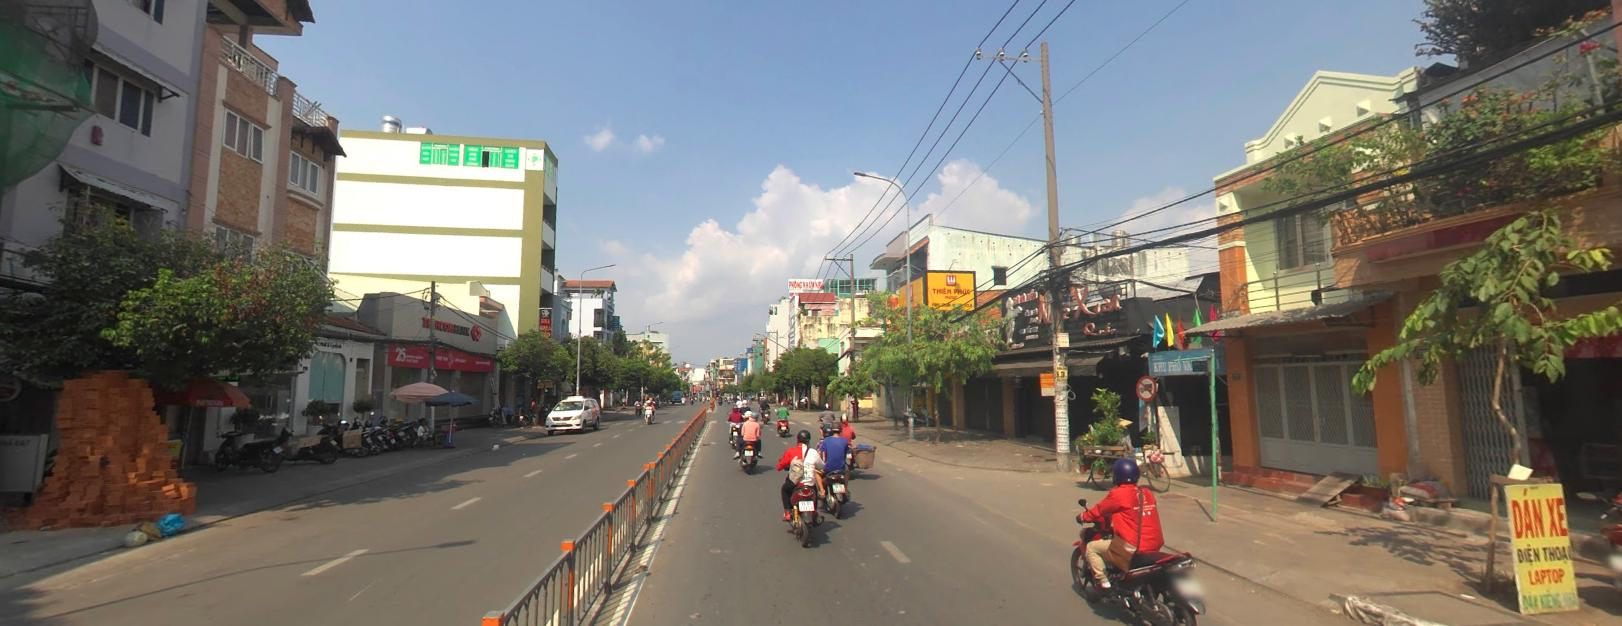Cam con lai: (1136, 375, 1156, 400)
